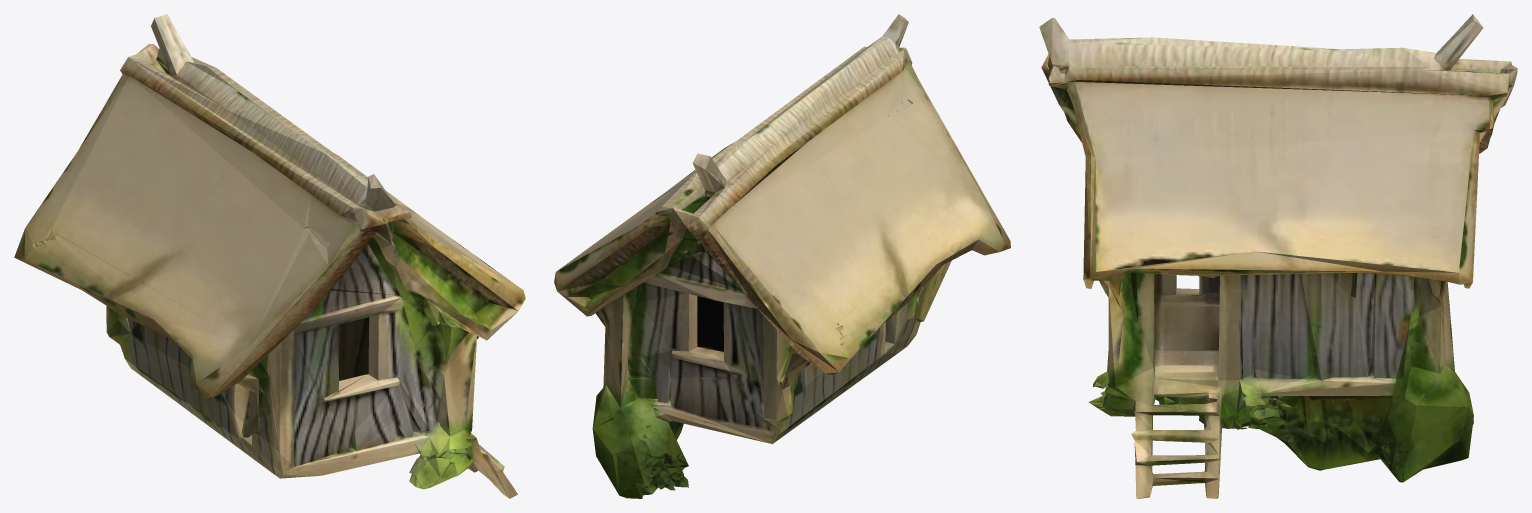
File: fen_stilt_hut_01.glb
The picture shows the model from 3 angles, left to right: view 1: azimuth 30°, elevation 25°; view 2: azimuth 150°, elevation 25°; view 3: azimuth 270°, elevation 25°; orthographic projection. The views are drawn at different scales.
Parts seen in each view (by area): view 1: geometry_0; view 2: geometry_0; view 3: geometry_0.
Boxes of the visible parts, left/top/right/bottom form: geometry_0: left=14, top=14, right=525, bottom=498; geometry_0: left=554, top=14, right=1010, bottom=498; geometry_0: left=1039, top=14, right=1517, bottom=498.
Bounding box in the file's own units: 0.7973 × 0.9194 × 0.9967.
Materials: 1 (1 with a texture image).
